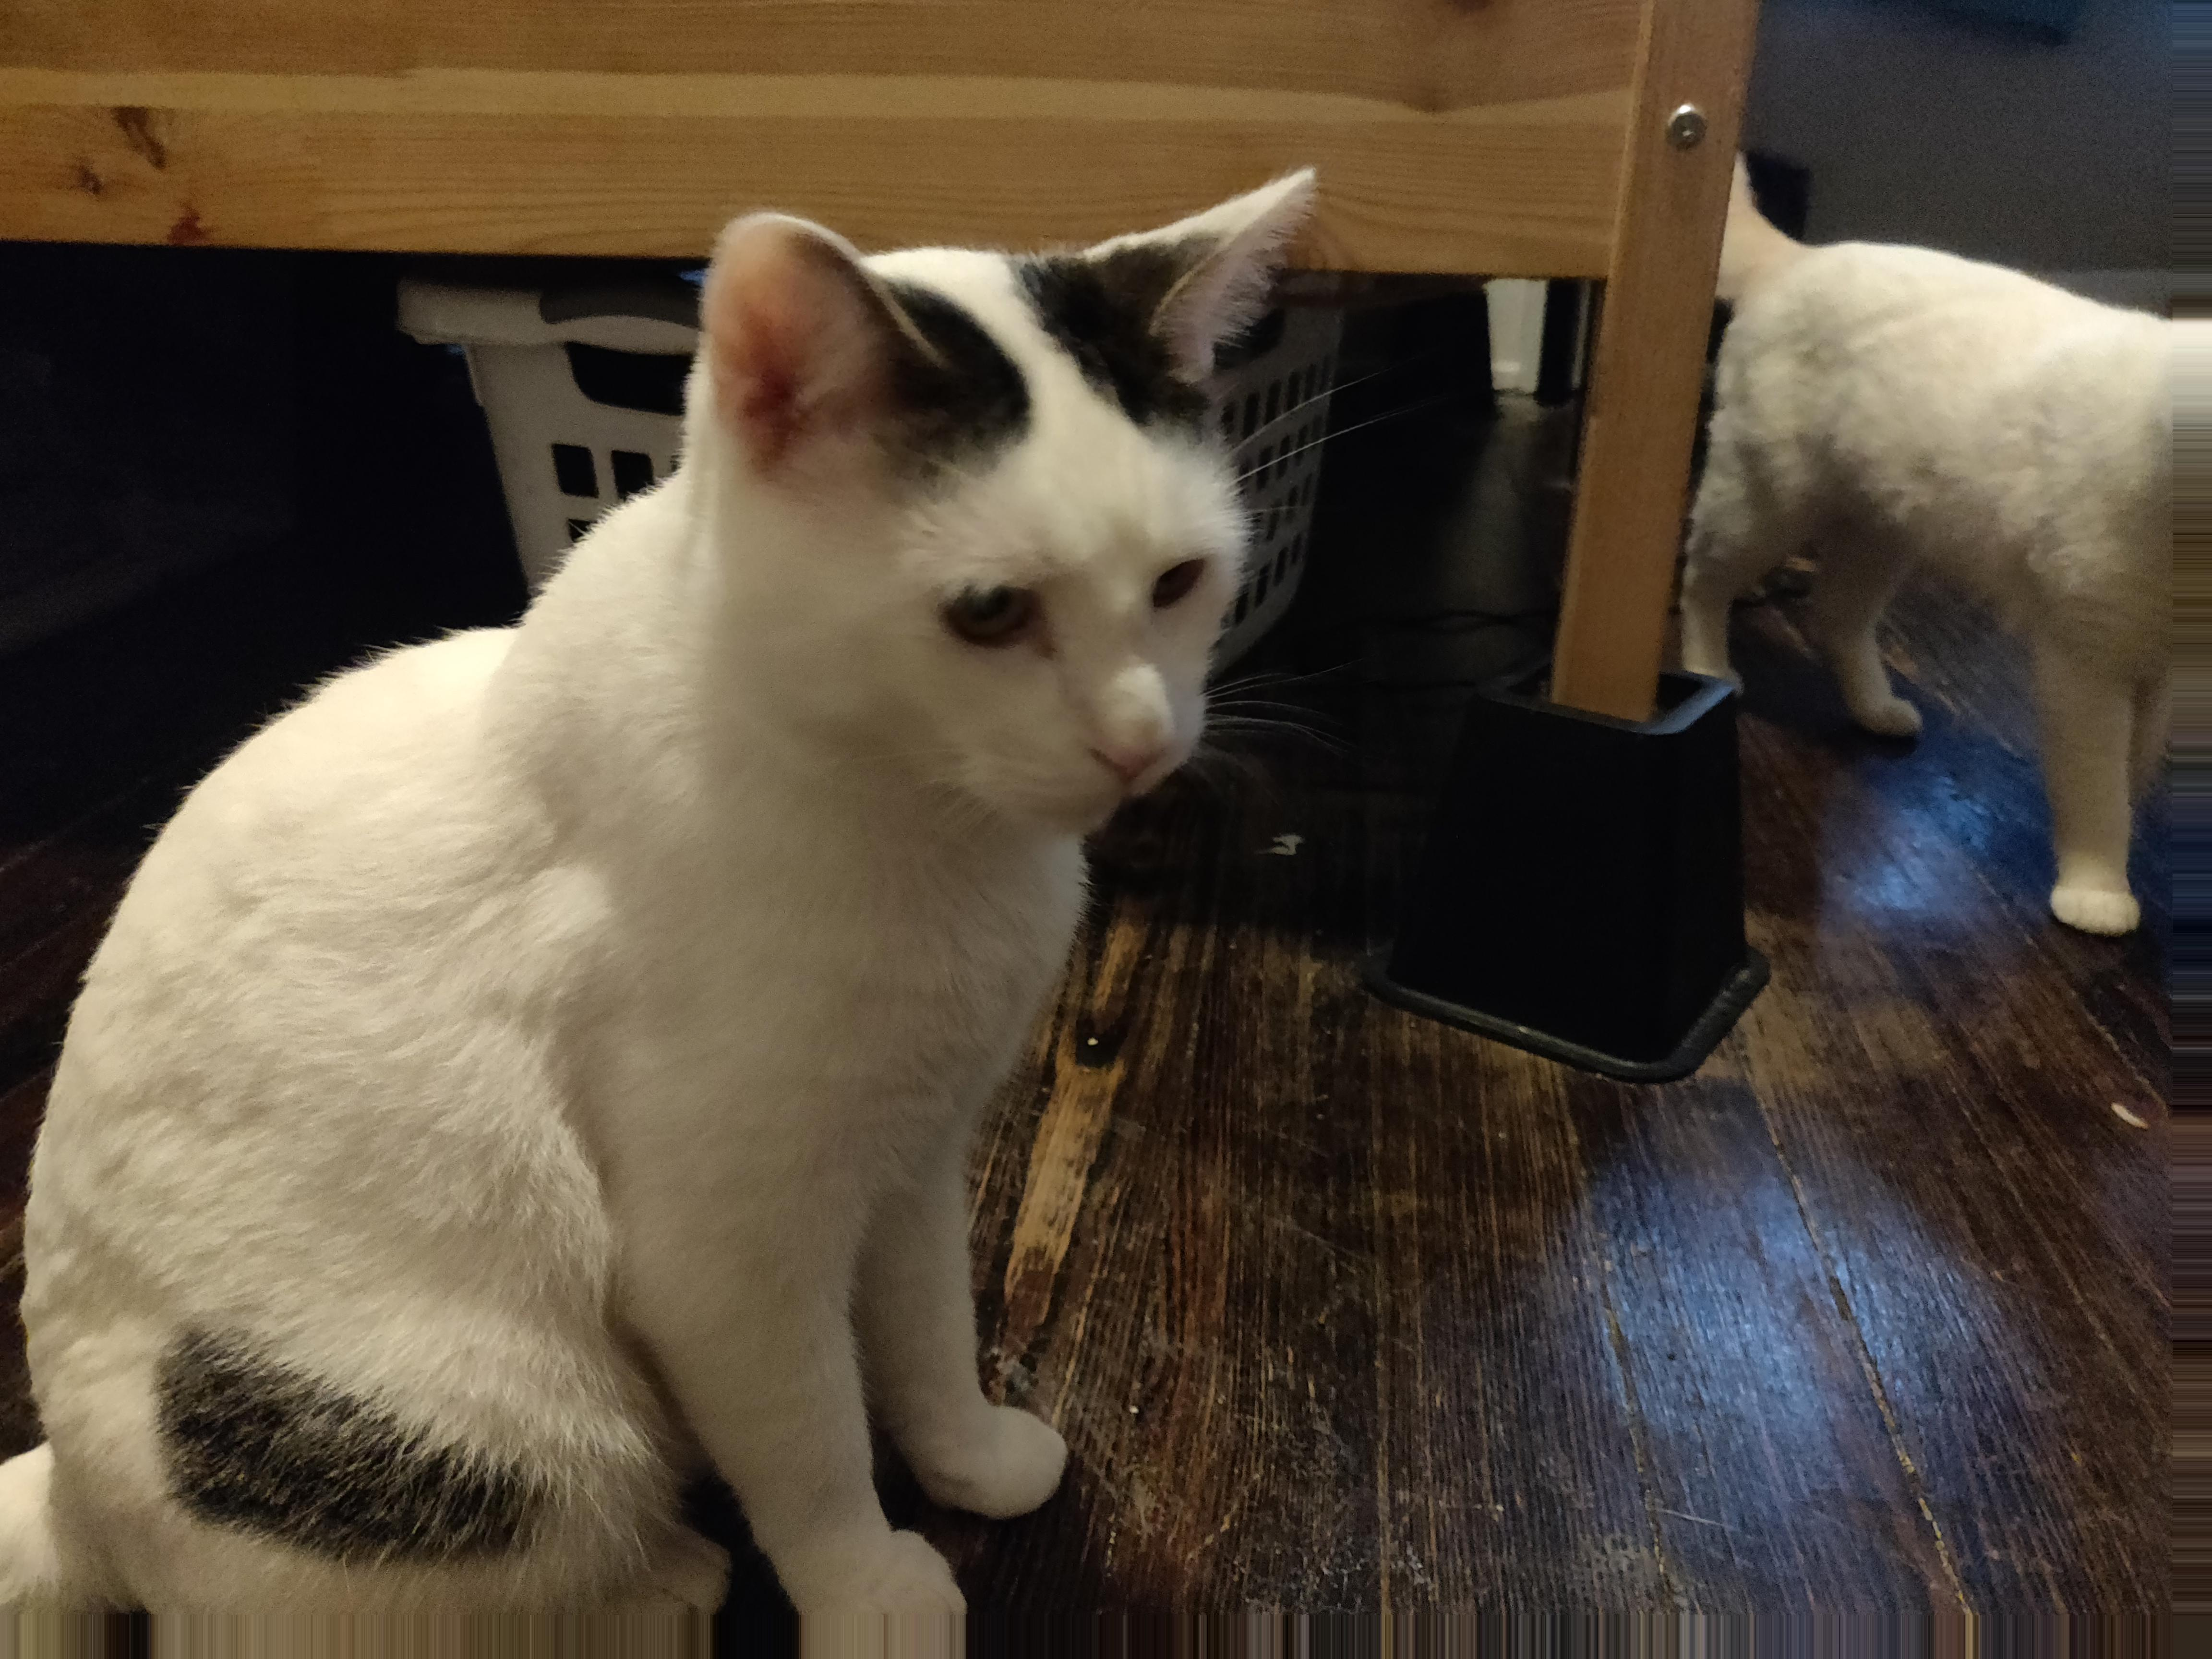cat: (0, 164, 1313, 1652), (1701, 138, 2212, 937)
